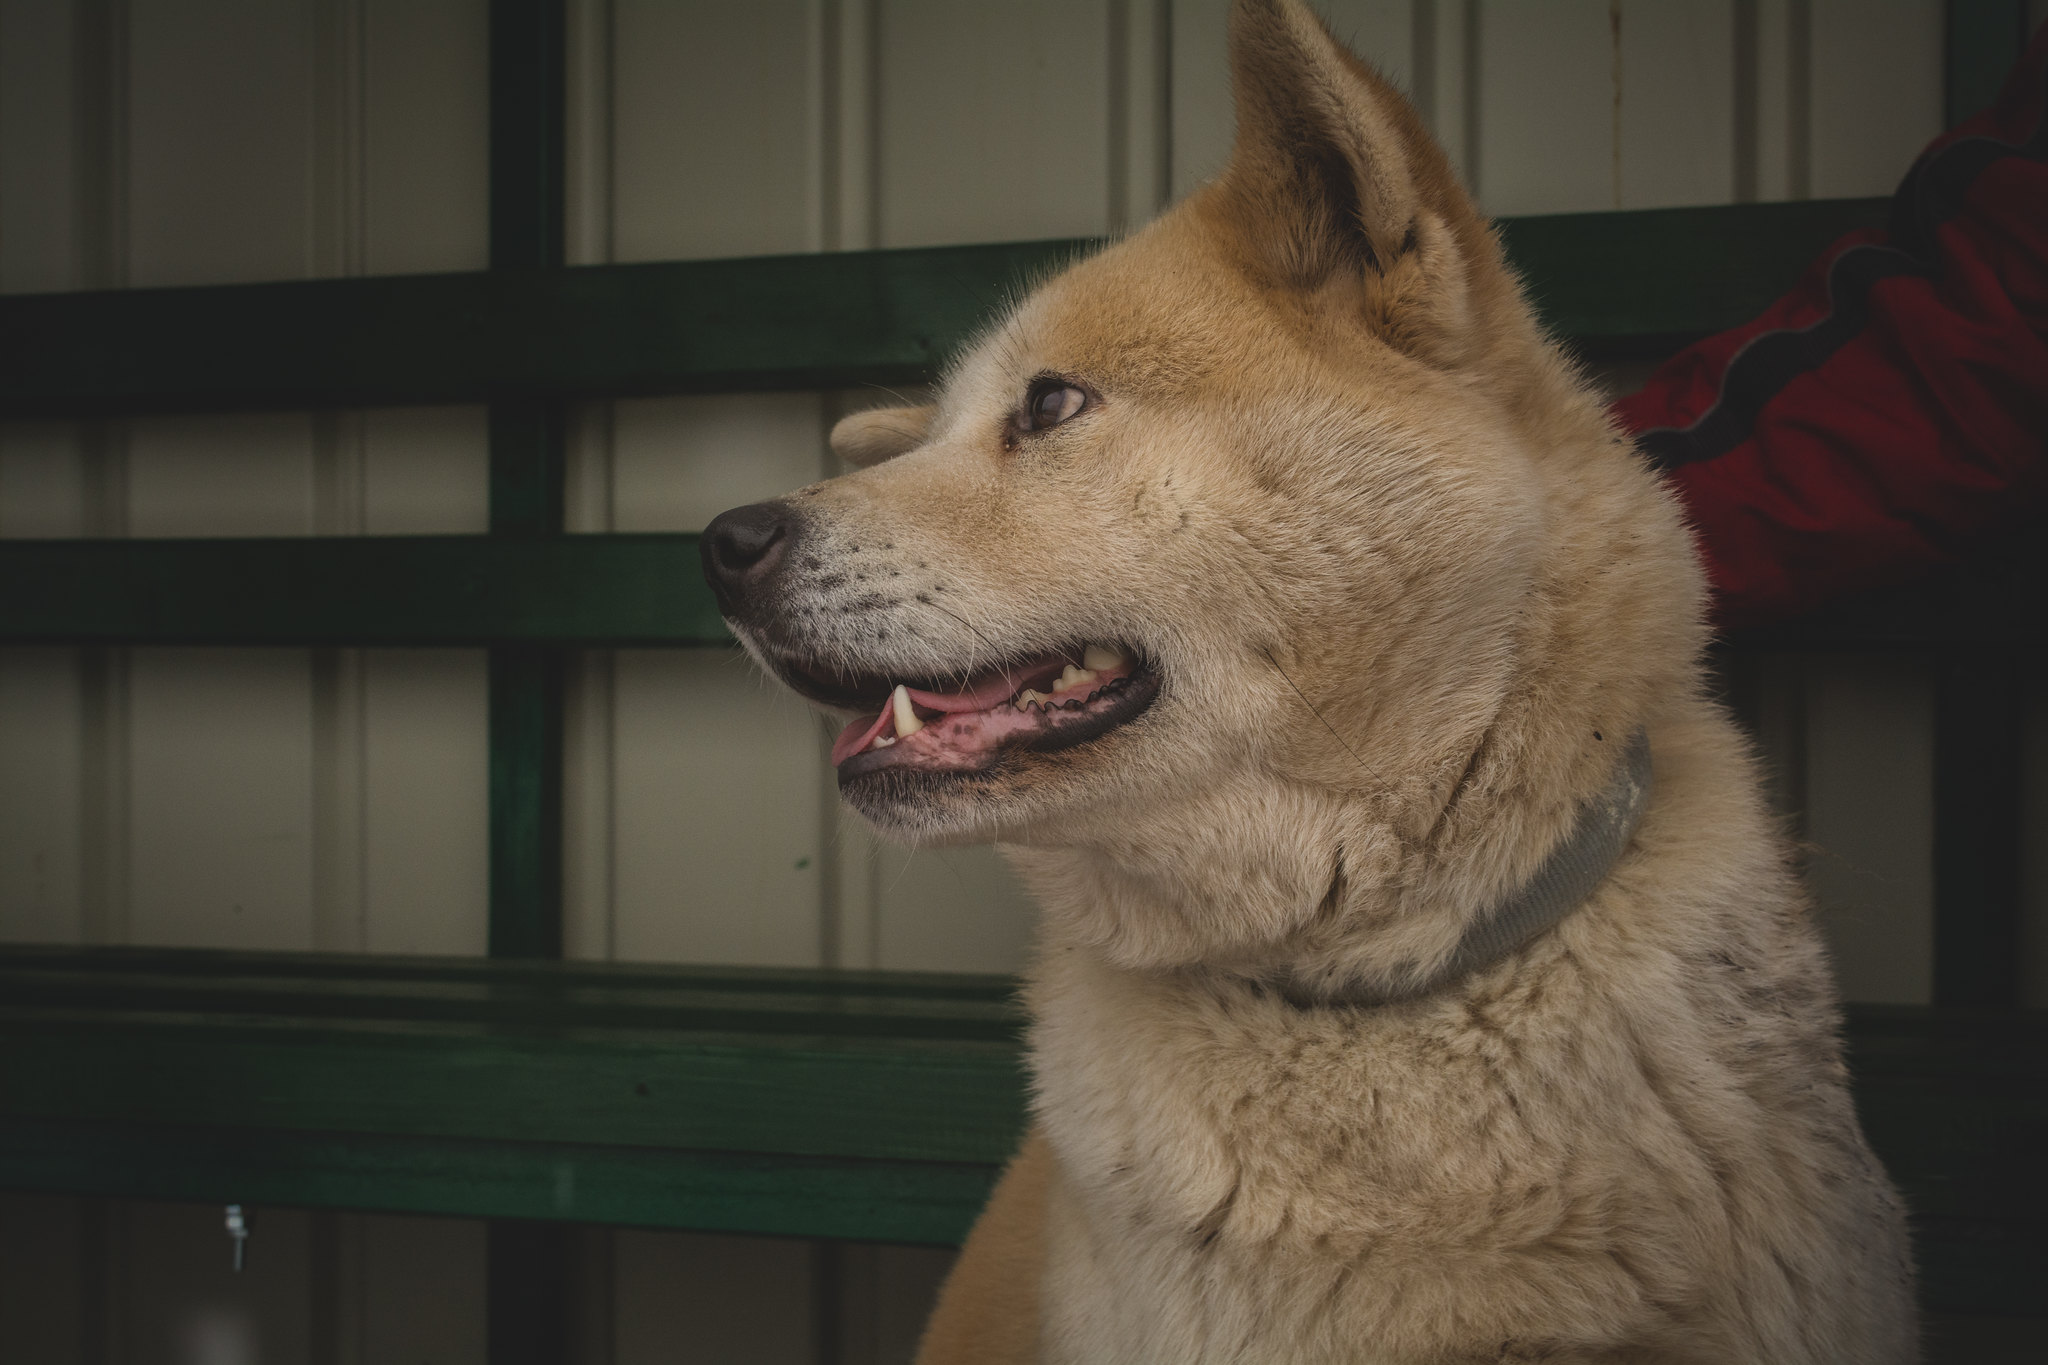dog: (697, 34, 1938, 1365)
